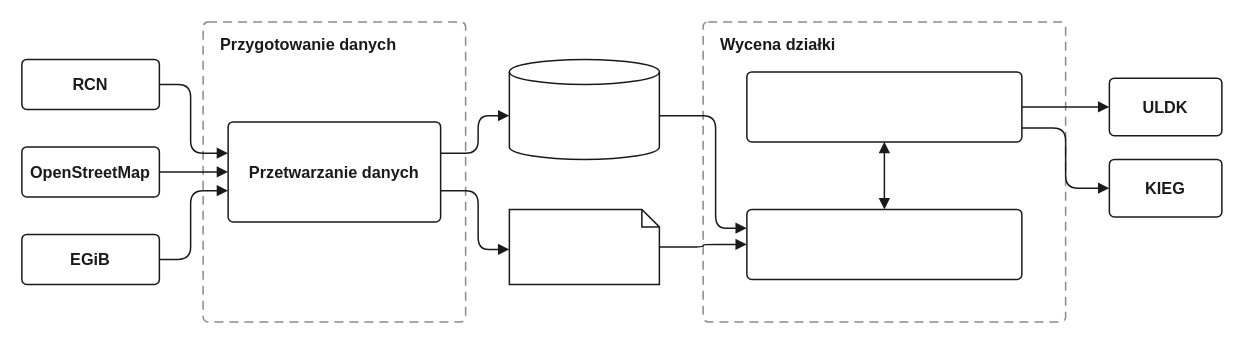
This 1245x345 diagram has some shape labels left out. The centre of each missing label's shape, as x and y in pixels:
Baza danych PostGIS: the point at 583,109
Panel wyceny: the point at 884,106
Plik modelu: the point at 583,246
Serwer wyceny: the point at 884,244
